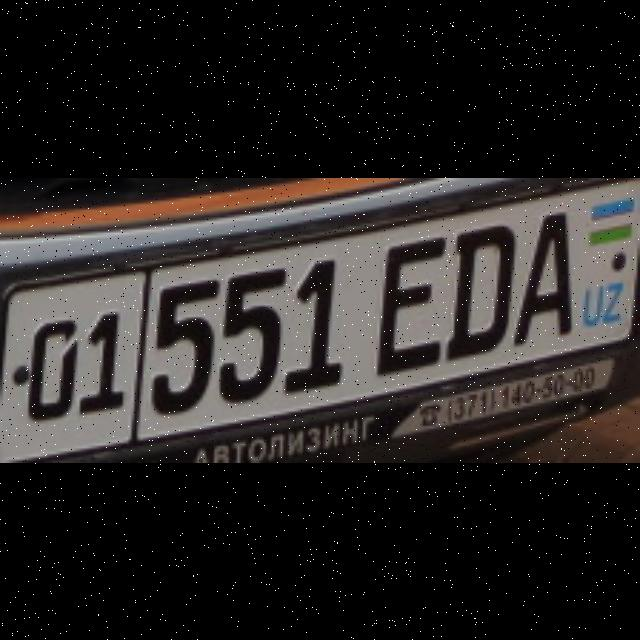0: (22, 314, 72, 418)
1: (280, 254, 338, 388), (74, 306, 120, 408)
5: (214, 262, 284, 400), (146, 274, 214, 408)
A: (511, 206, 571, 340)
D: (446, 220, 512, 356)
E: (372, 231, 442, 371)
